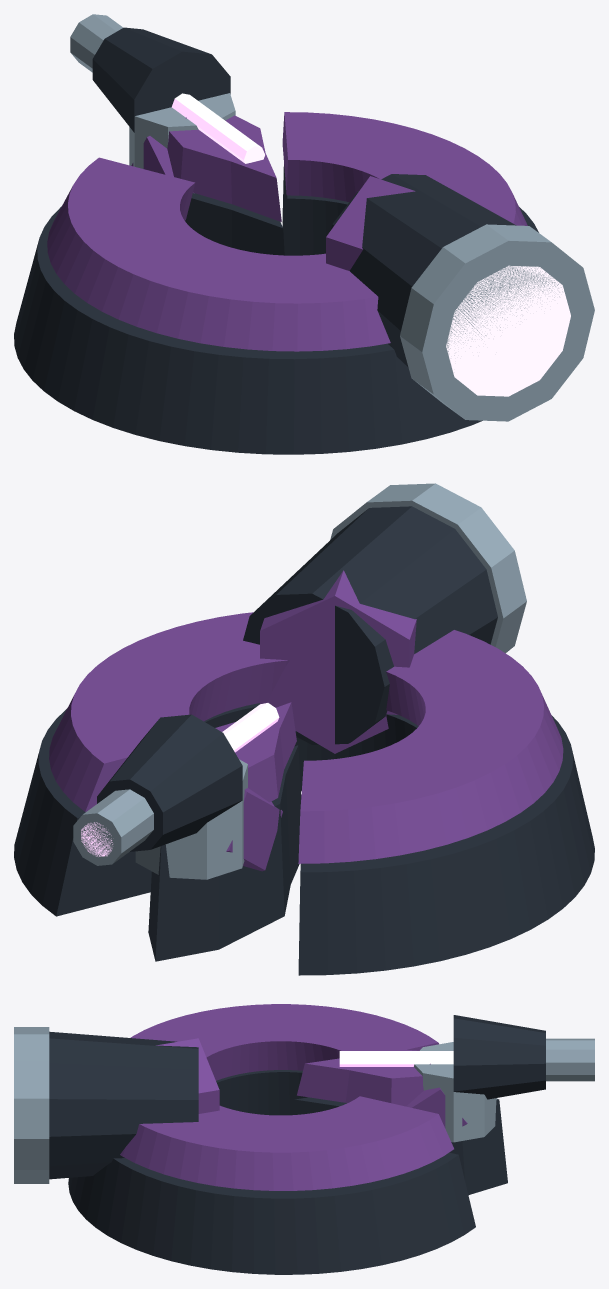
The model's file is c5_miniasteroid.glb.
3 renders of one model, top to bottom at view 1: azimuth 30°, elevation 25°; view 2: azimuth 150°, elevation 25°; view 3: azimuth 270°, elevation 25°, orthographic. The views are drawn at different scales.
Visible parts, largest first — view 1: miniasteroid / Chassis, miniasteroid / Armor, miniasteroid / Titanium, miniasteroid / Energy; view 2: miniasteroid / Chassis, miniasteroid / Armor, miniasteroid / Titanium, miniasteroid / Energy; view 3: miniasteroid / Chassis, miniasteroid / Armor, miniasteroid / Titanium, miniasteroid / Energy.
Boxes of the visible parts, left/top/right/bottom form: miniasteroid / Chassis: left=14, top=27, right=538, bottom=454; miniasteroid / Armor: left=47, top=112, right=527, bottom=351; miniasteroid / Titanium: left=70, top=14, right=594, bottom=421; miniasteroid / Energy: left=172, top=93, right=570, bottom=396; miniasteroid / Chassis: left=14, top=506, right=594, bottom=975; miniasteroid / Armor: left=49, top=570, right=563, bottom=871; miniasteroid / Titanium: left=73, top=483, right=526, bottom=879; miniasteroid / Energy: left=81, top=703, right=279, bottom=856; miniasteroid / Chassis: left=49, top=1015, right=545, bottom=1274; miniasteroid / Armor: left=120, top=1004, right=467, bottom=1190; miniasteroid / Titanium: left=14, top=1027, right=594, bottom=1183; miniasteroid / Energy: left=339, top=1051, right=453, bottom=1066.
Size of the model in its own units: 0.7991 by 0.34 by 1.07.
